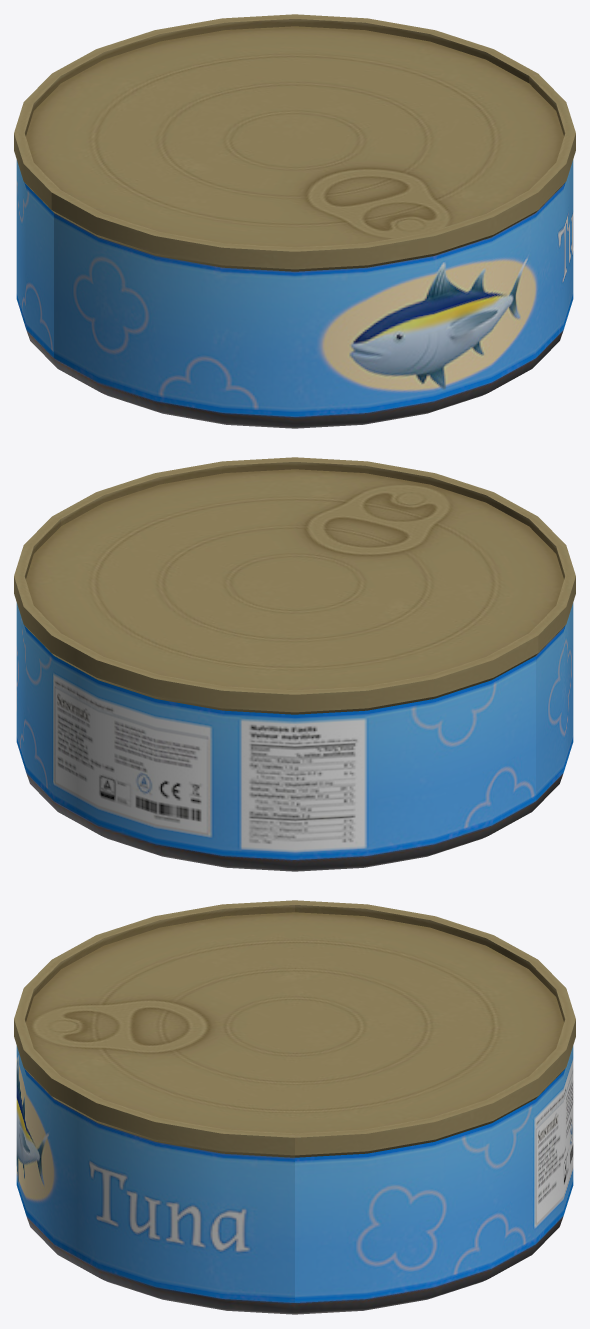
The model's file is TunaCan_1.fbx.
The picture shows the model from 3 angles, top to bottom: view 1: azimuth 30°, elevation 25°; view 2: azimuth 150°, elevation 25°; view 3: azimuth 270°, elevation 25°; orthographic projection.
Visible parts, largest first — view 1: TunaCan_1; view 2: TunaCan_1; view 3: TunaCan_1.
Boxes of the visible parts, x1,y1,x2,y2 form: TunaCan_1: [14, 14, 575, 428]; TunaCan_1: [14, 457, 575, 871]; TunaCan_1: [14, 900, 575, 1314].
Bounding box in the file's own units: 52.94 × 19.09 × 52.94.
1 material, 1 textured.
